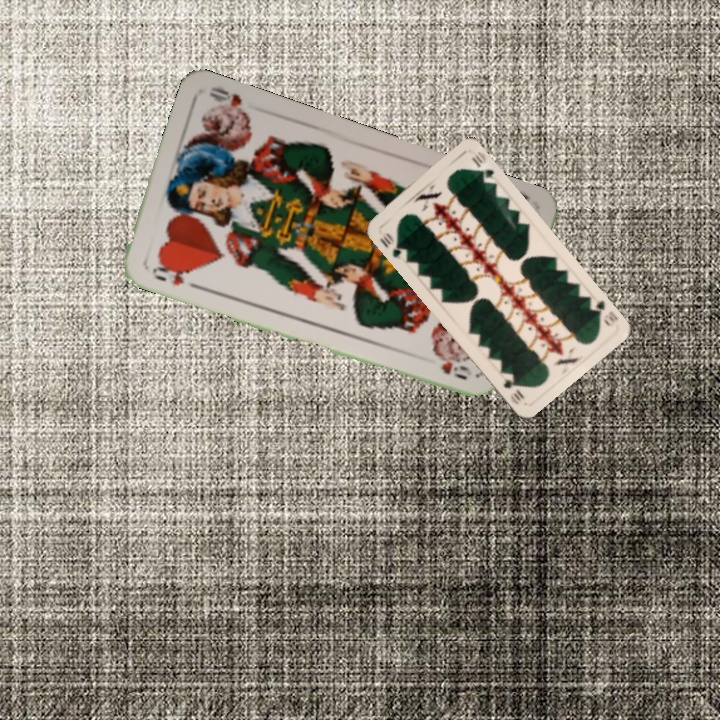G10: (585, 296, 621, 329), (375, 229, 410, 262)
HO: (148, 257, 192, 289)
